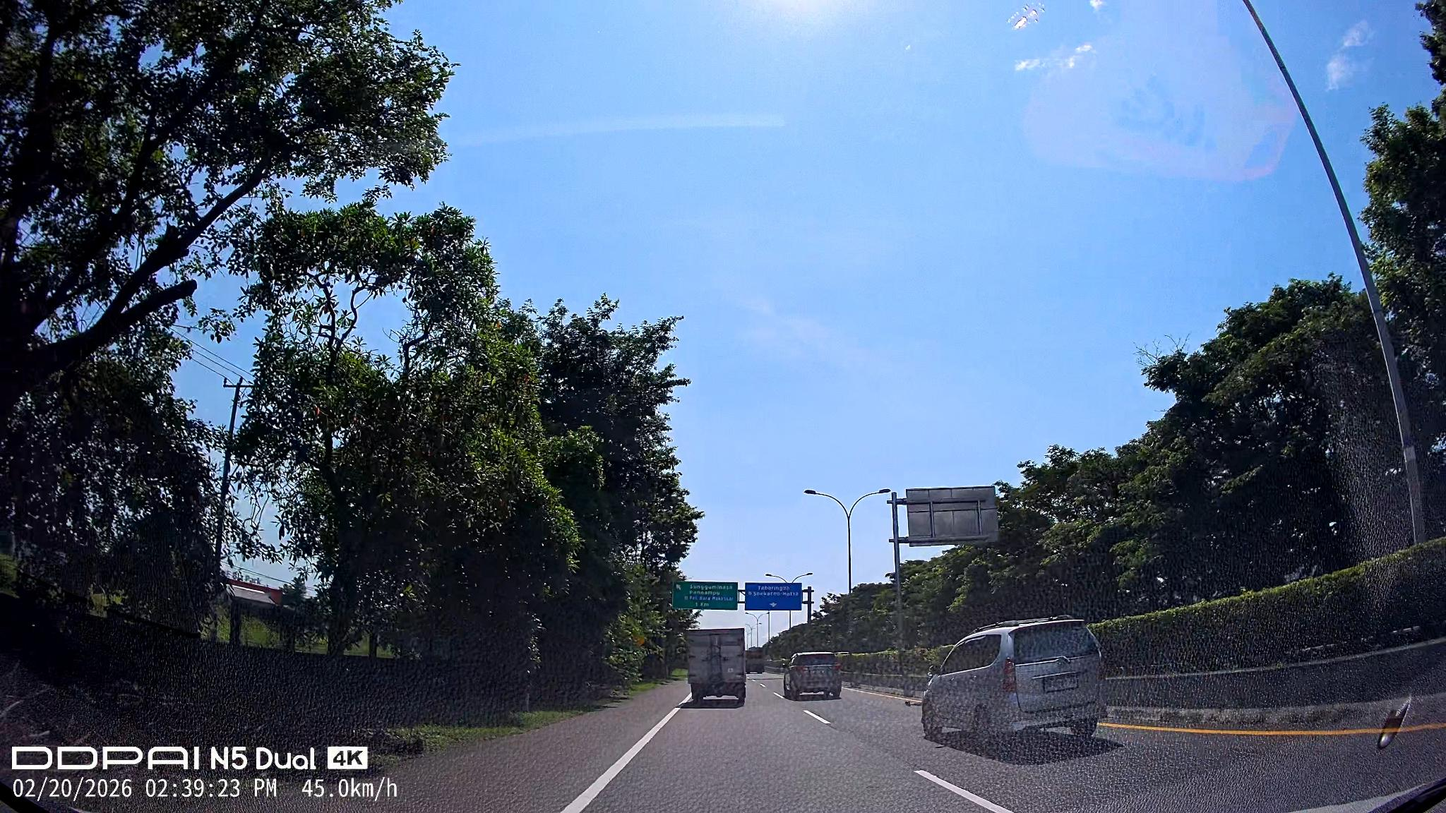rambu_teks: (672, 580, 738, 611), (744, 582, 803, 612)
